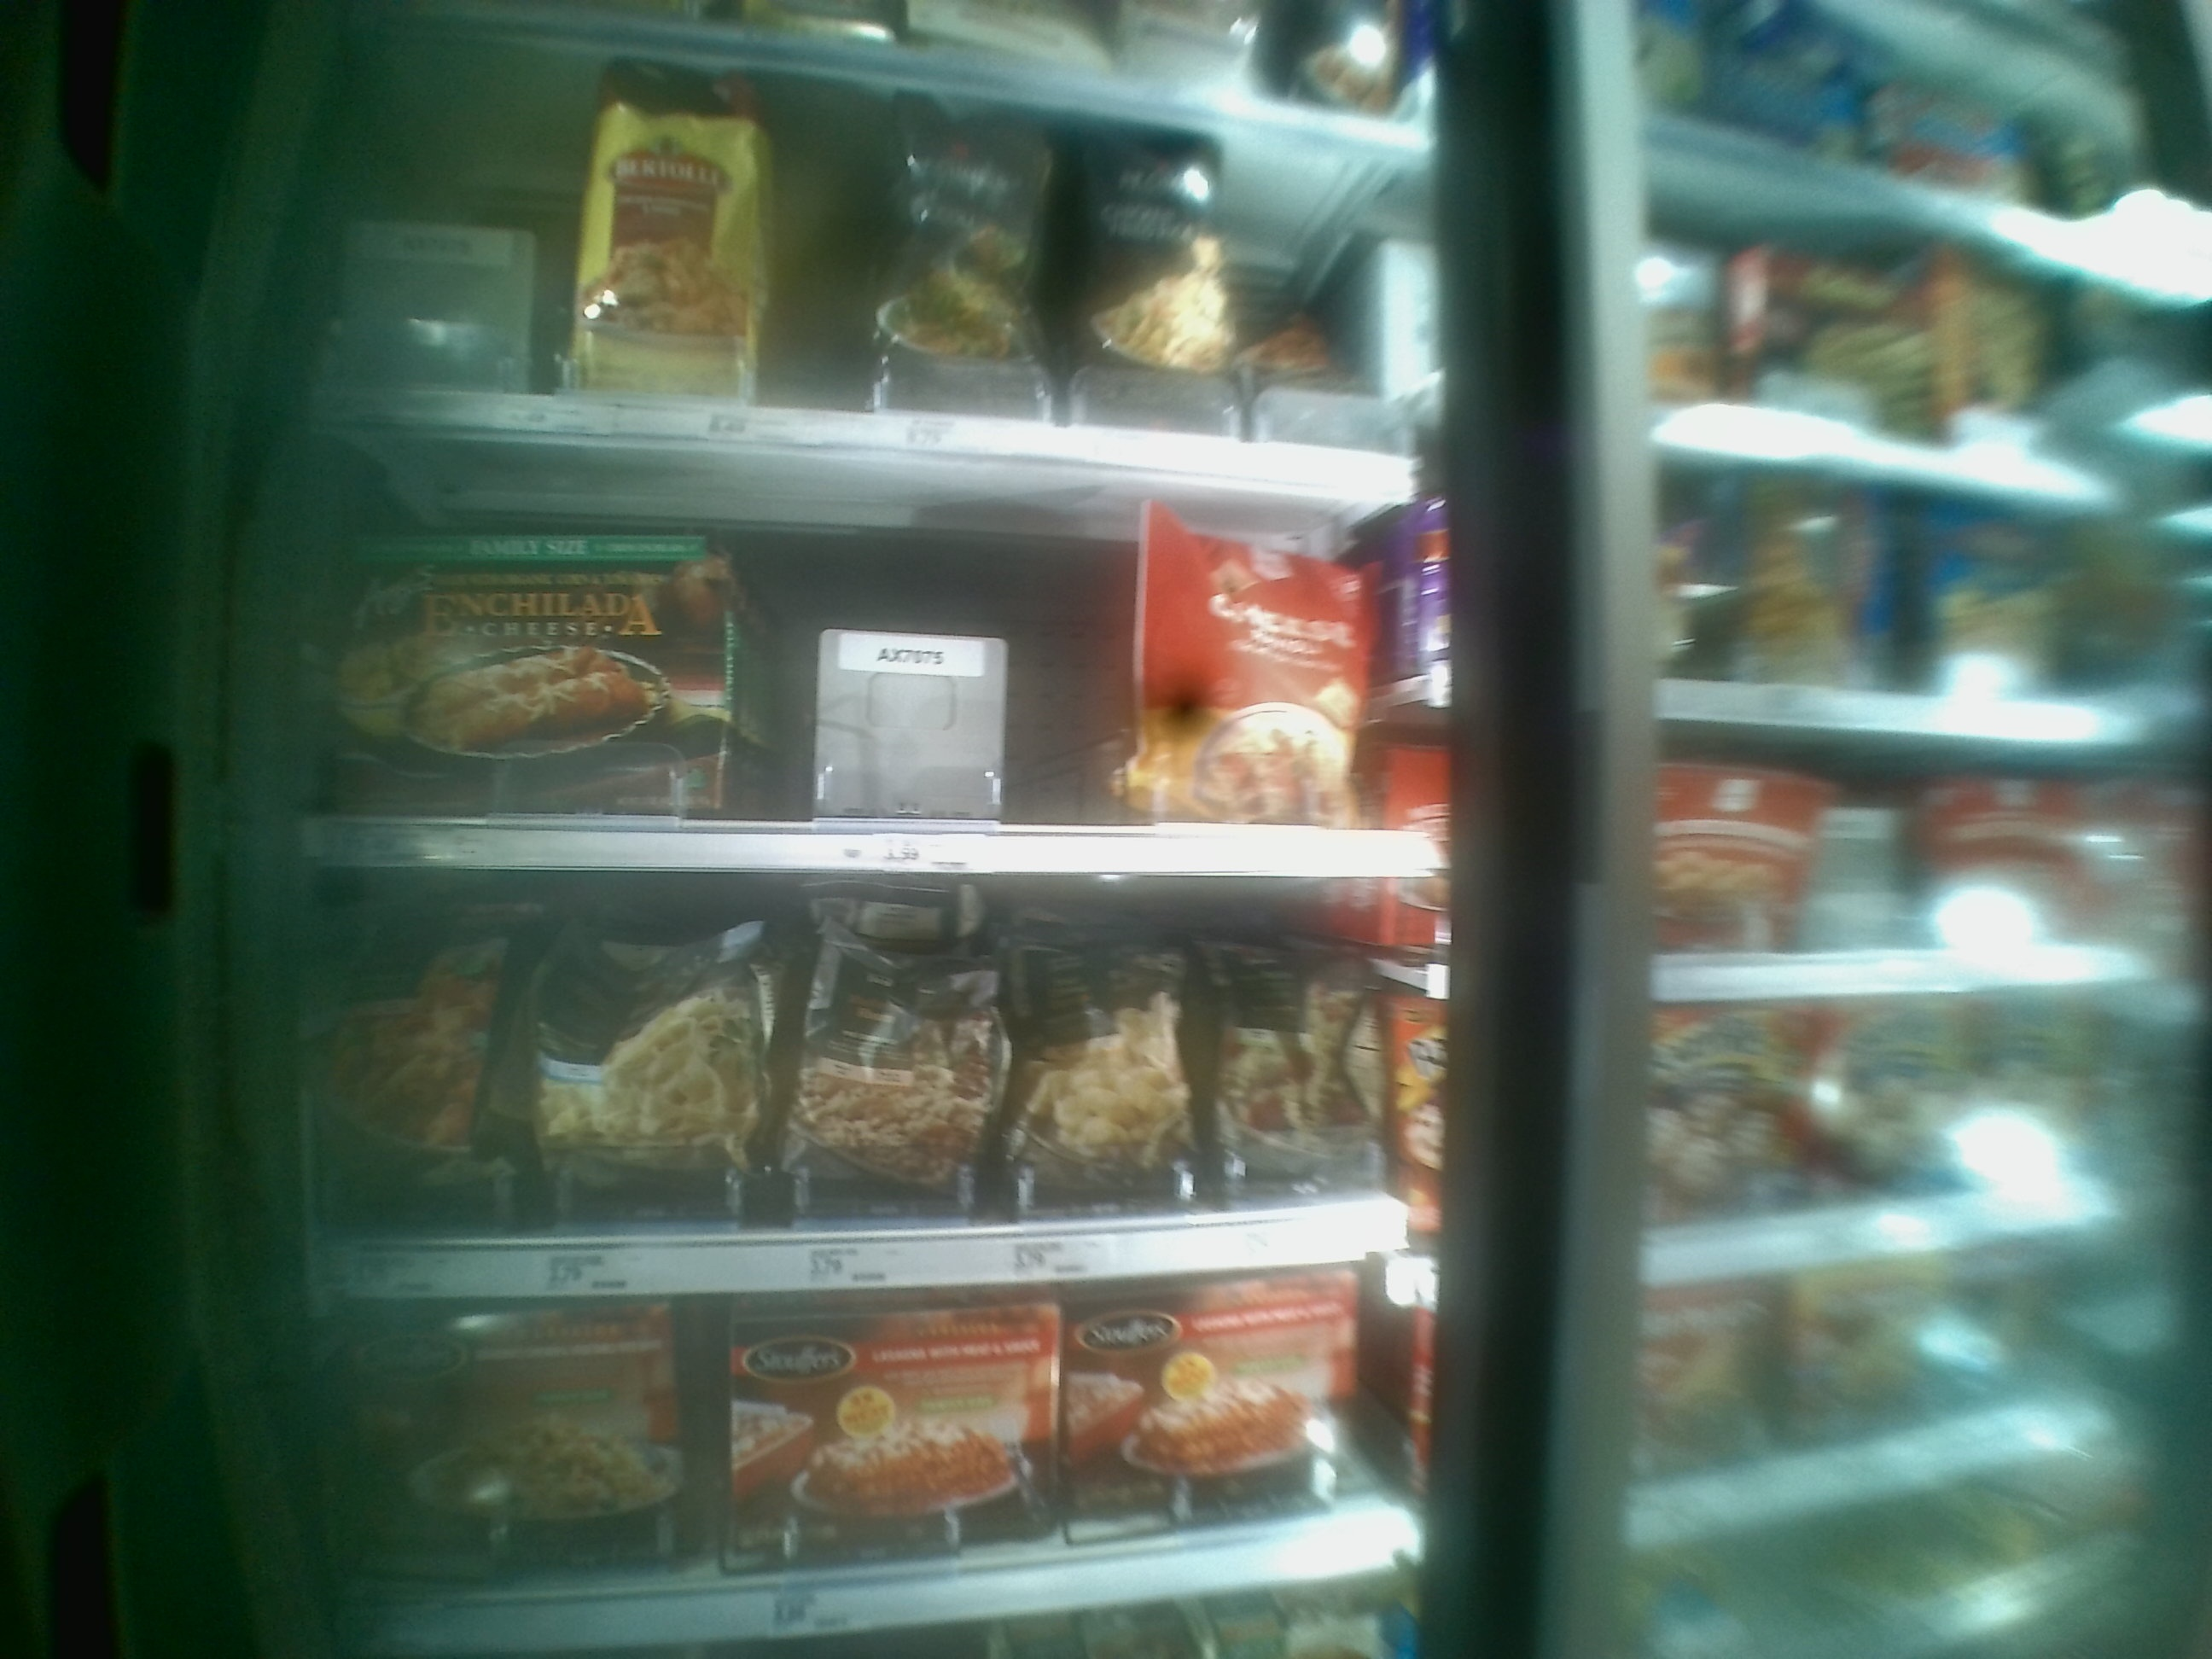shelf: (298, 854, 1440, 1297)
